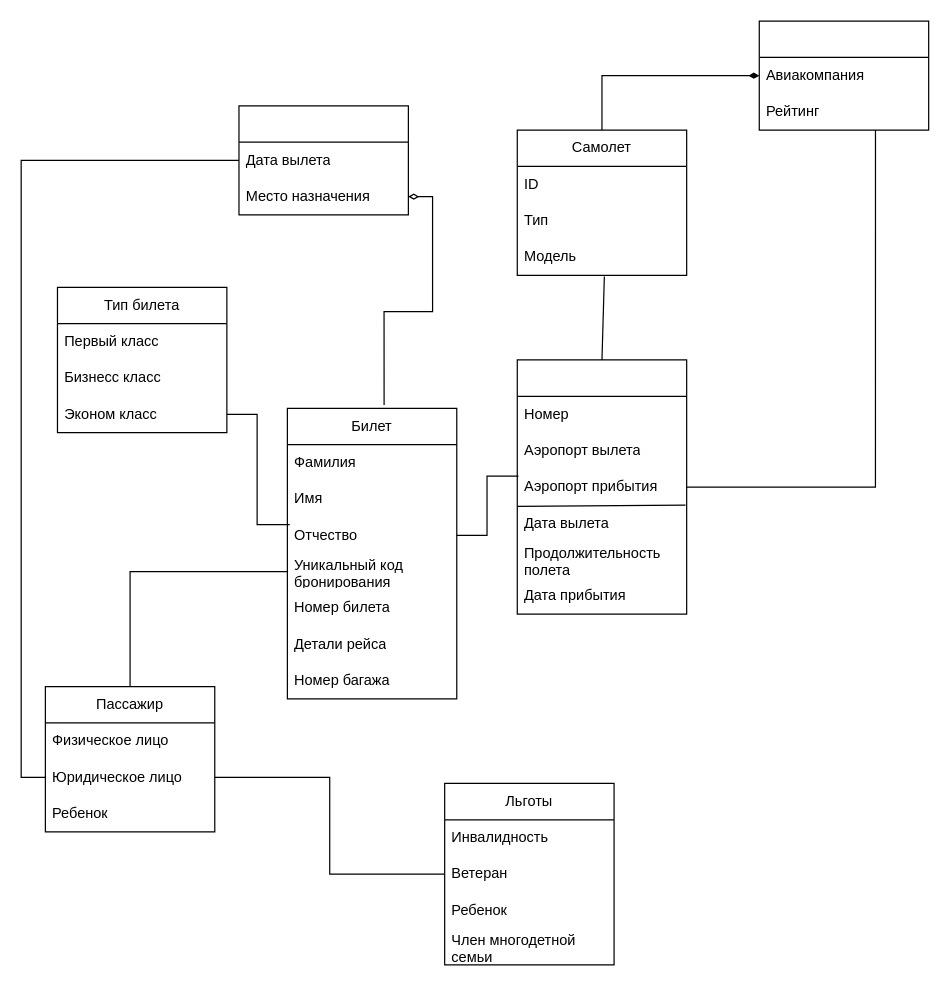
This 950x986 diagram has some shape labels left out. The box of each missing label's shape, as (x1, y1, x2, y2) in pixels:
Аэропорт: (758, 20, 929, 130)
Бронирование: (238, 105, 408, 215)
Рейс: (516, 359, 687, 614)
